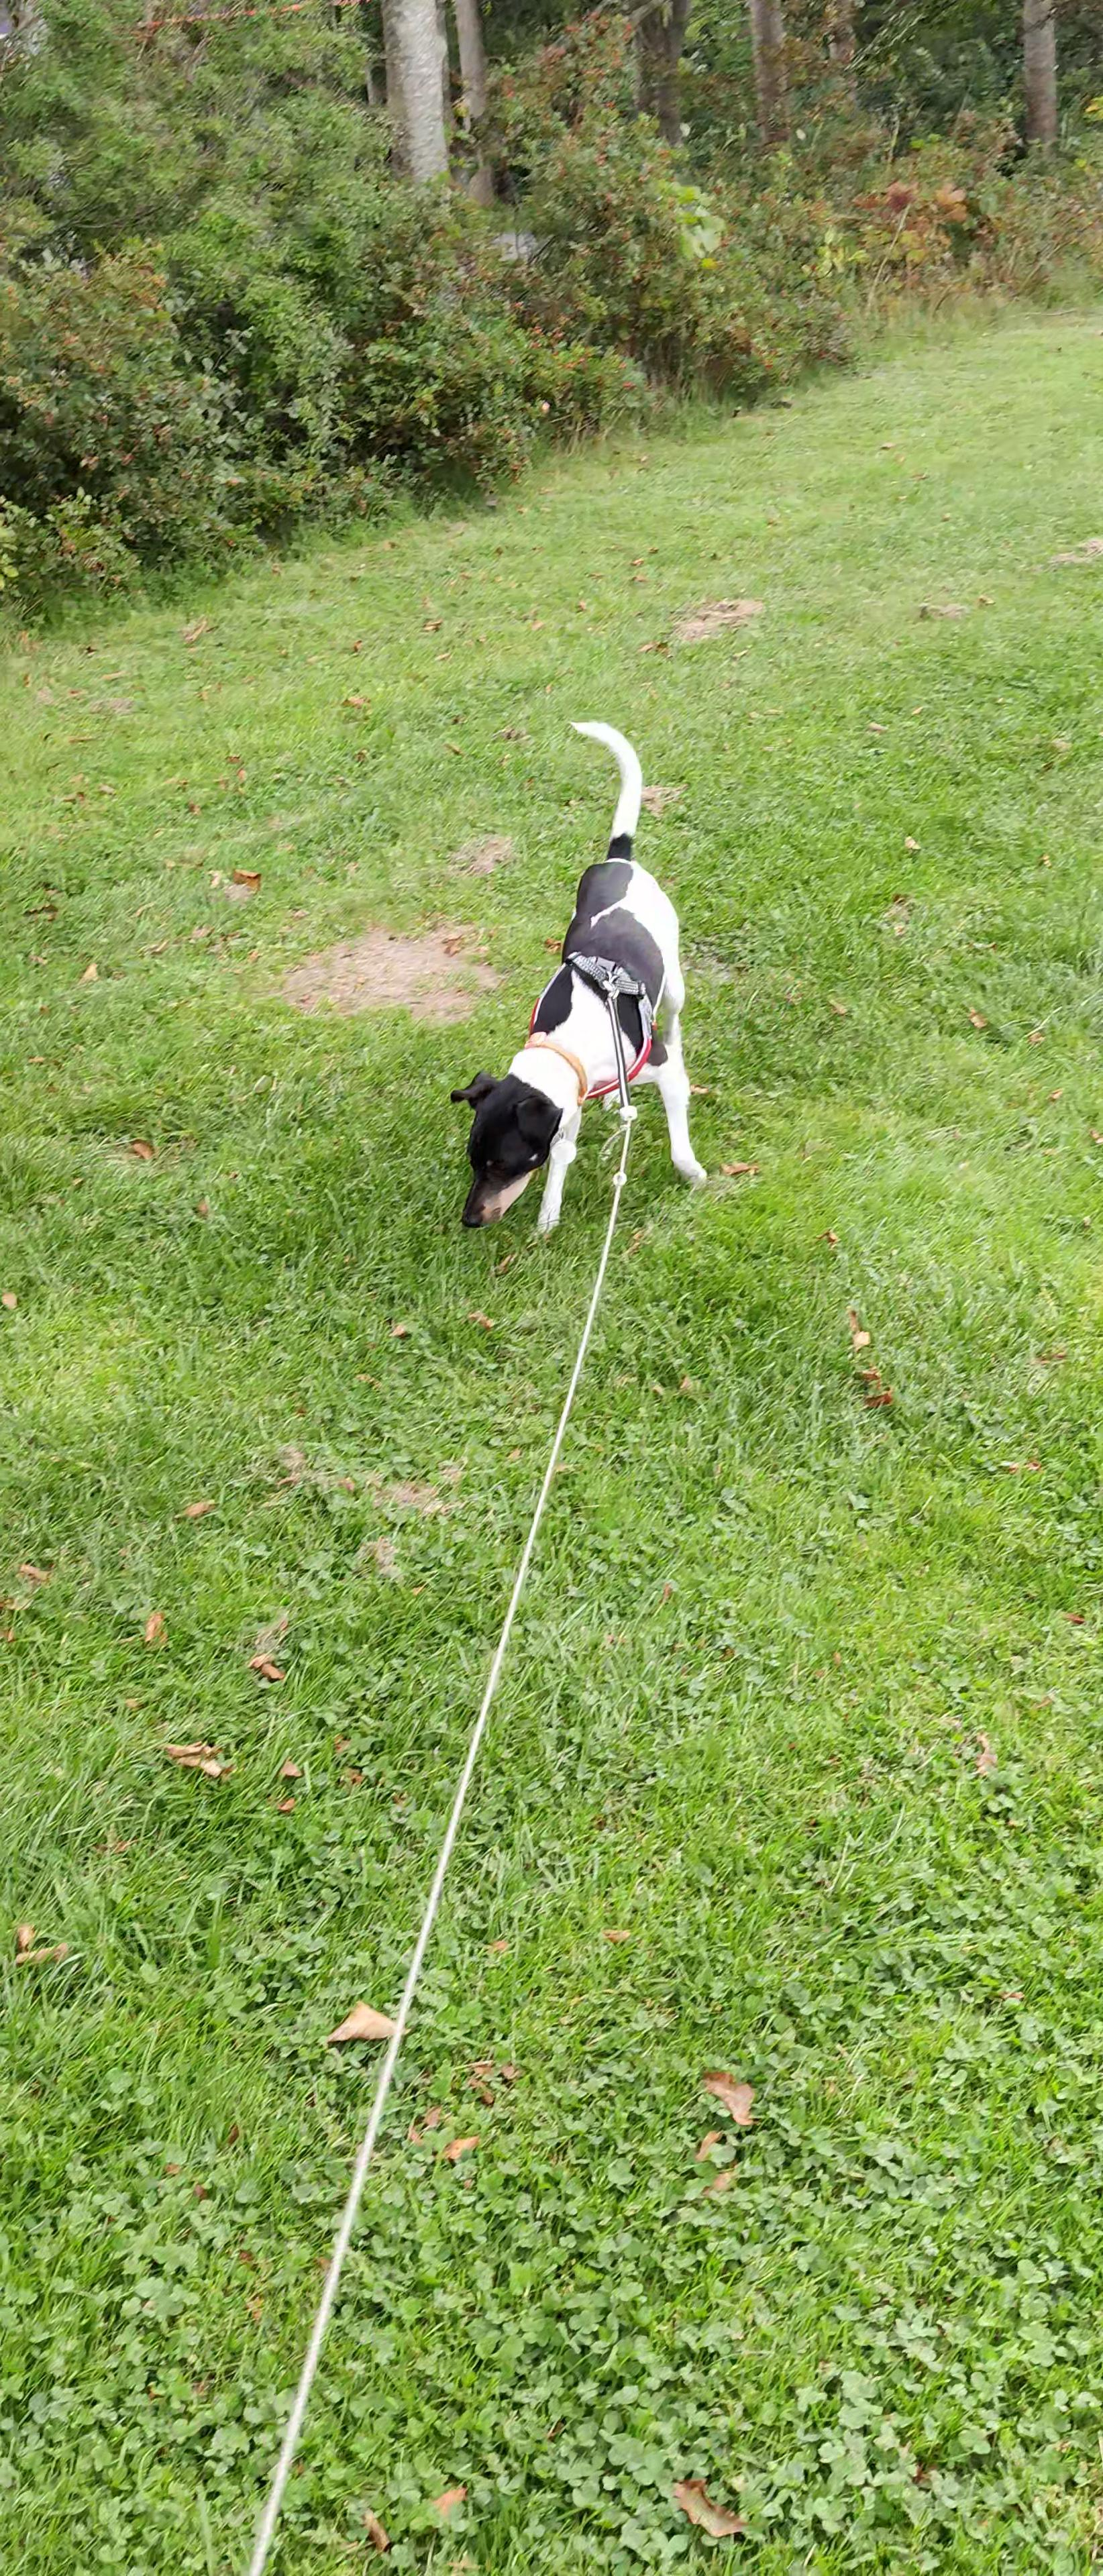Dog: (442, 713, 713, 1250)
